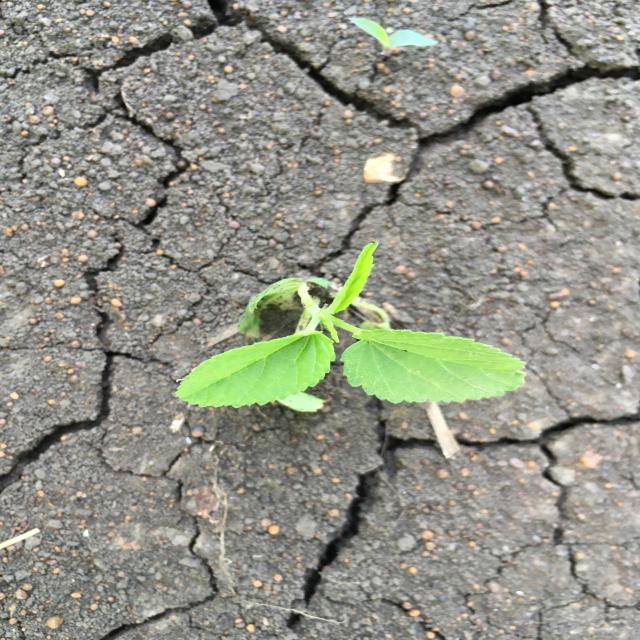PricklySida: (173, 238, 529, 408)
